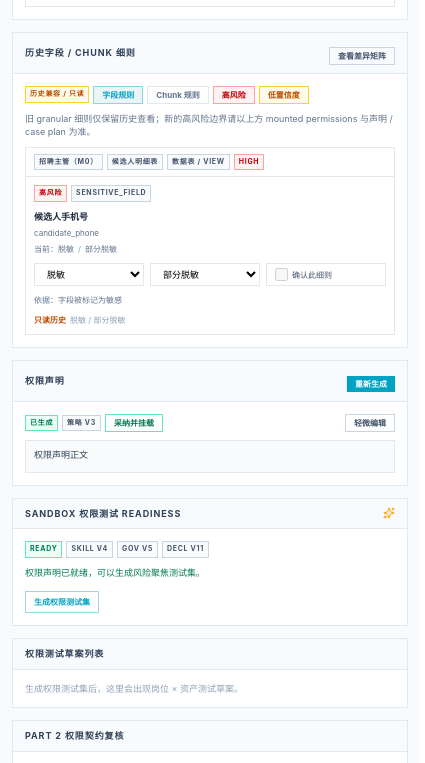
Test: SkillGovernancePanel › uses projection flow while legacy policy cards stay read-only
(page scrolled)
Click the button "重新生成" at (371, 384), box [347,376,395,392]
(page scrolled)
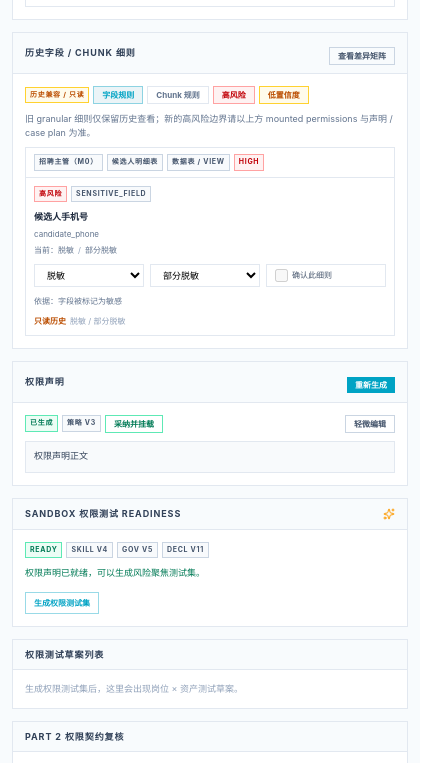
Click the button "采纳并挂载" at (134, 424), box [105,414,163,432]
(page scrolled)
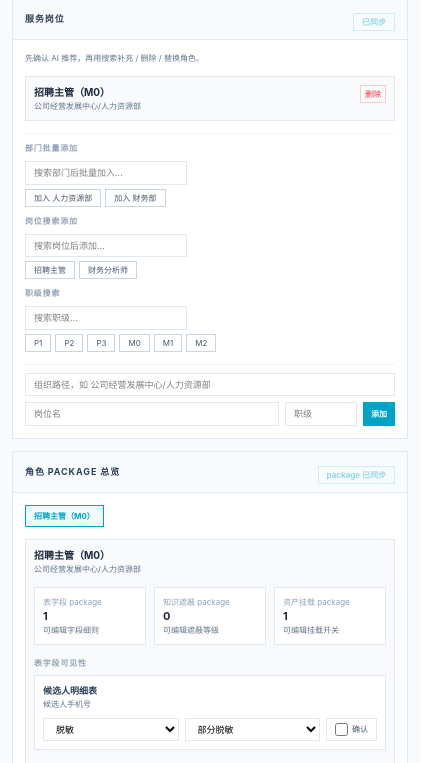
Type "公司经营发展中心/财务部" into the field with placeholder "组织路径，如 公司经营发展中心/人力资源部" at (210, 384), box [25,372,395,396]
Type "财务分析师" into the field with placeholder "岗位名" at (152, 414), box [25,402,279,426]
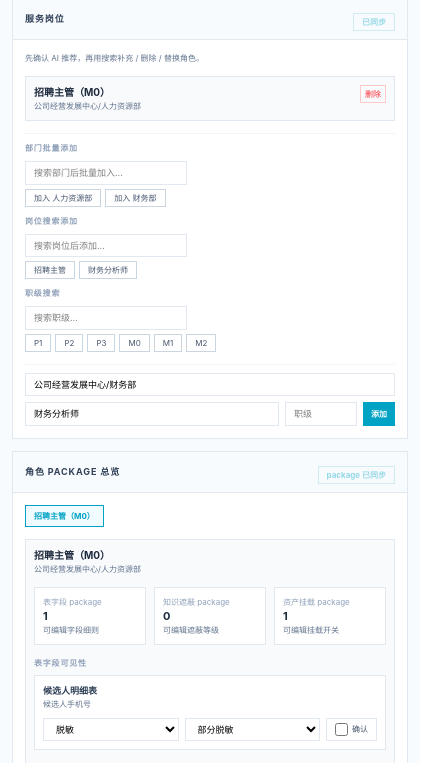
Type "P2" into the field with placeholder "职级" at (321, 414), box [285,402,357,426]
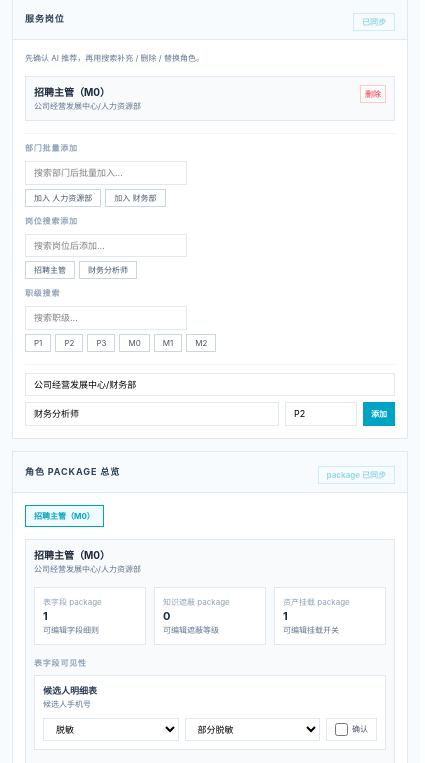
Click the button "添加" at (379, 414), box [363,402,395,426]
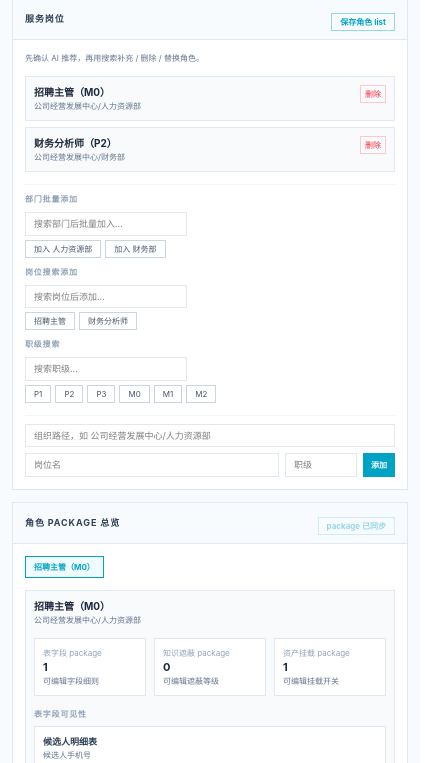
Click the button "保存角色 list" at (363, 22), box [331,13,395,31]
(page scrolled)
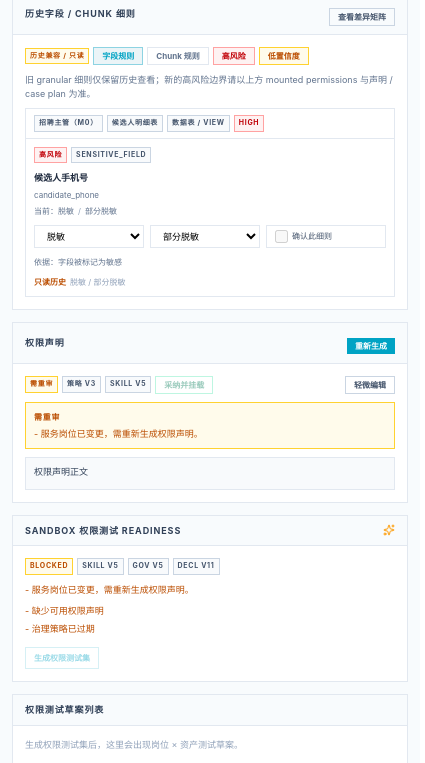
Expected: the button "采纳并挂载" is disabled, [155,376,213,394]
Expected: the text "- 服务岗位已变更，需重新生成权限声明。" below "策略 v3" is shown, [41,428,203,438]
